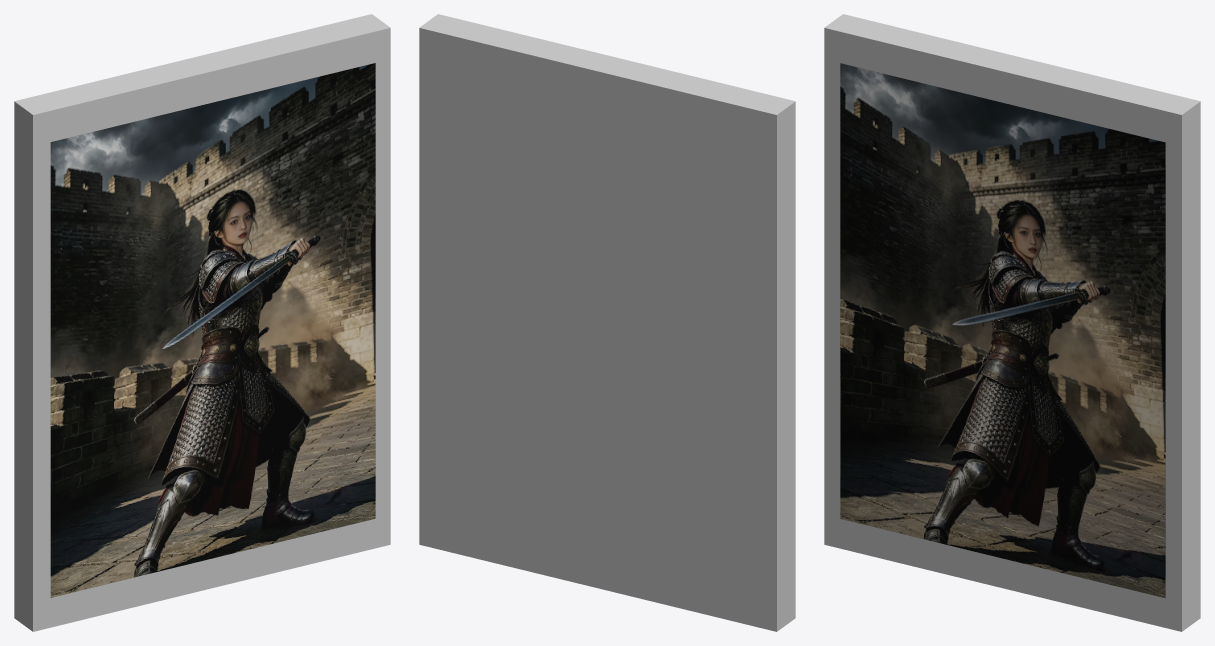
Rendered from zhen (3).glb.
3 views of the same model, side by side, from view 1: azimuth 30°, elevation 25°; view 2: azimuth 150°, elevation 25°; view 3: azimuth 330°, elevation 25° (orthographic).
Visible parts, largest first — view 1: 平面, 立方体; view 2: 立方体; view 3: 平面, 立方体.
Part boxes in pixels (left/top/right/bottom): 平面: left=50, top=63, right=375, bottom=597; 立方体: left=14, top=14, right=390, bottom=631; 立方体: left=419, top=14, right=795, bottom=631; 平面: left=840, top=63, right=1165, bottom=598; 立方体: left=824, top=14, right=1200, bottom=631.
Size of the model in its own units: 1.64 by 2.27 by 0.1551.
1 material, 1 textured.
